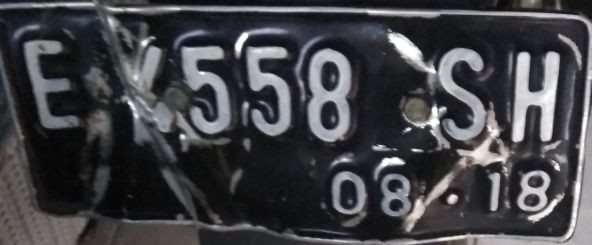plate: (2, 3, 591, 243)
